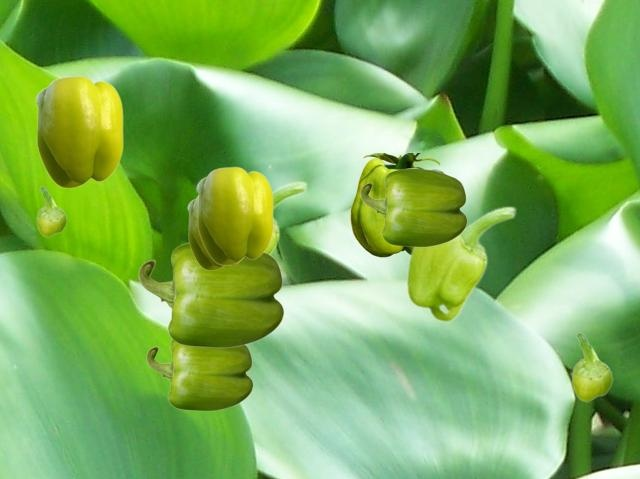bell_pepper: (138, 242, 283, 347), (405, 205, 516, 322), (35, 75, 122, 187), (350, 153, 439, 256), (360, 168, 466, 246), (196, 166, 272, 264), (146, 340, 252, 410), (187, 195, 242, 269), (266, 180, 307, 254), (571, 332, 612, 401), (36, 186, 66, 236)
